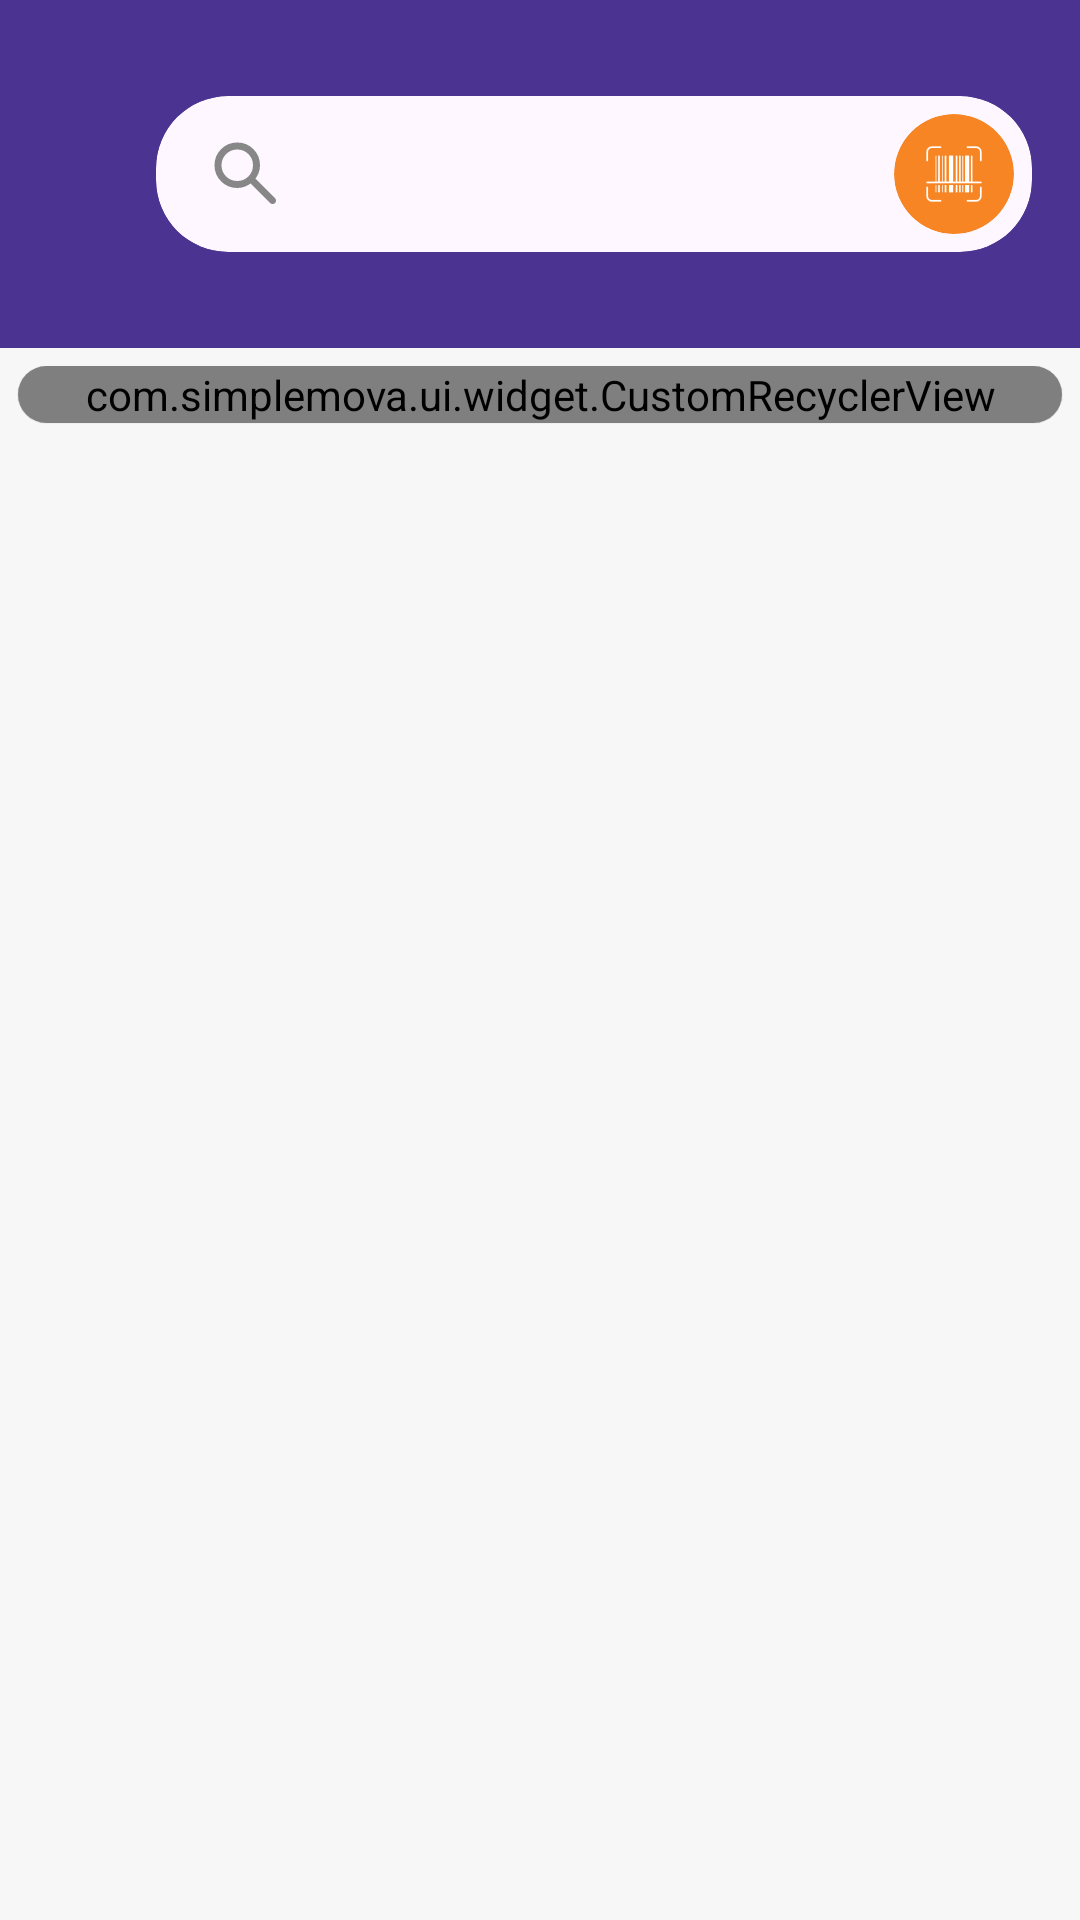

Screen size 1080 × 1920. Icon name, then its center in pixels as [x,y]:
barcode scanner: [954,174]
search: [245,173]
